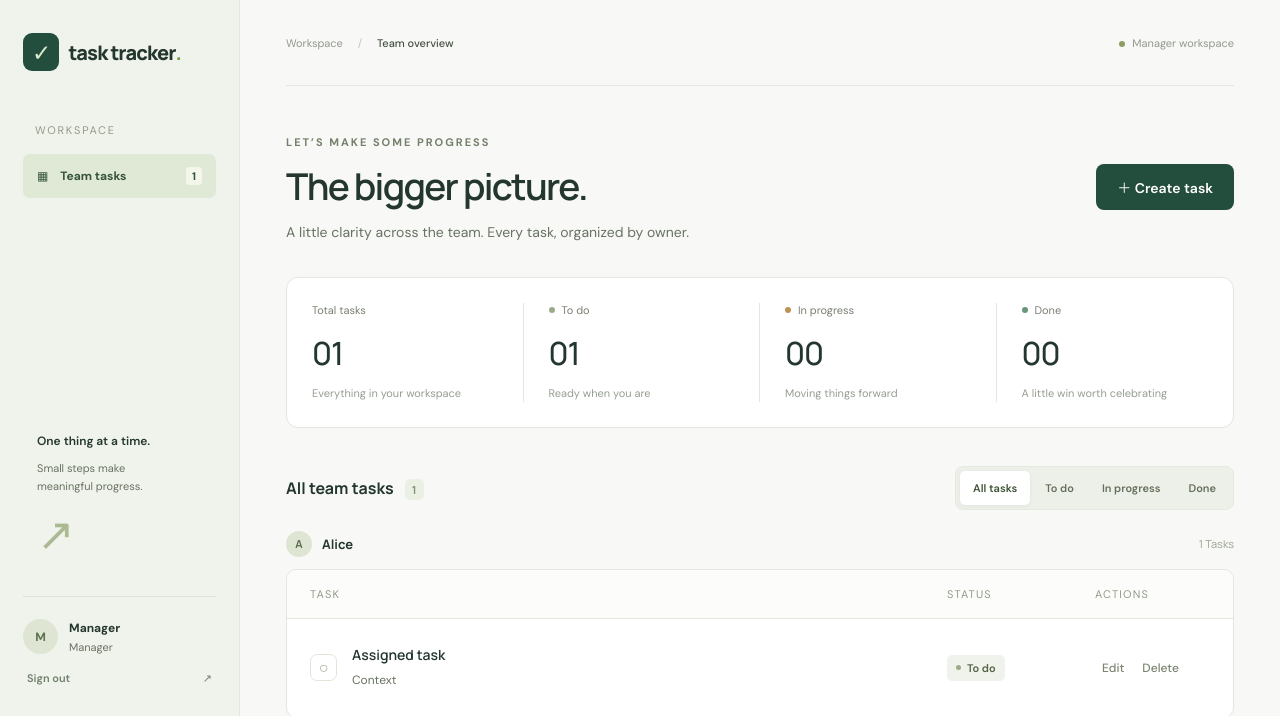
Test: moves a reassigned task into the new owner group without reloading
This screenshot has width=1280, height=716.
Click the button with aria-label "Edit Assigned task" at (1113, 668), box [1095, 650, 1131, 686]
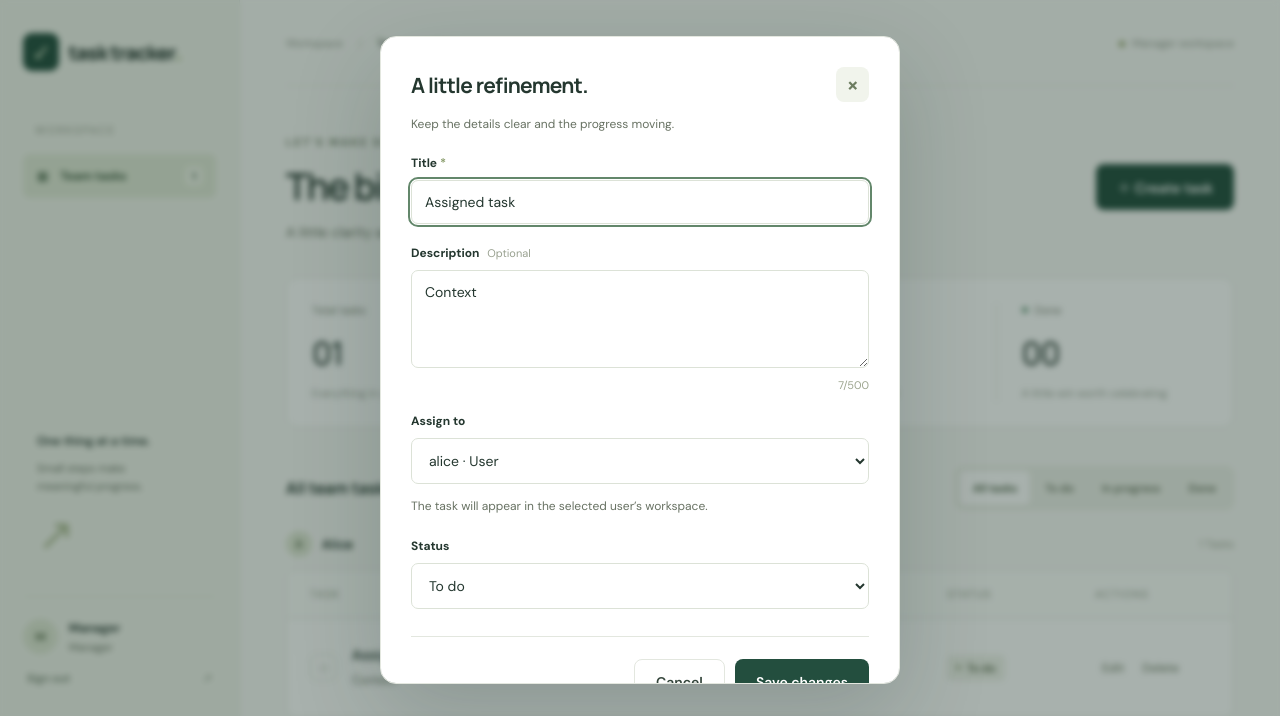
Select "bob · User" in the dropdown labelled "Assign to" at (640, 461), box [411, 438, 869, 484]
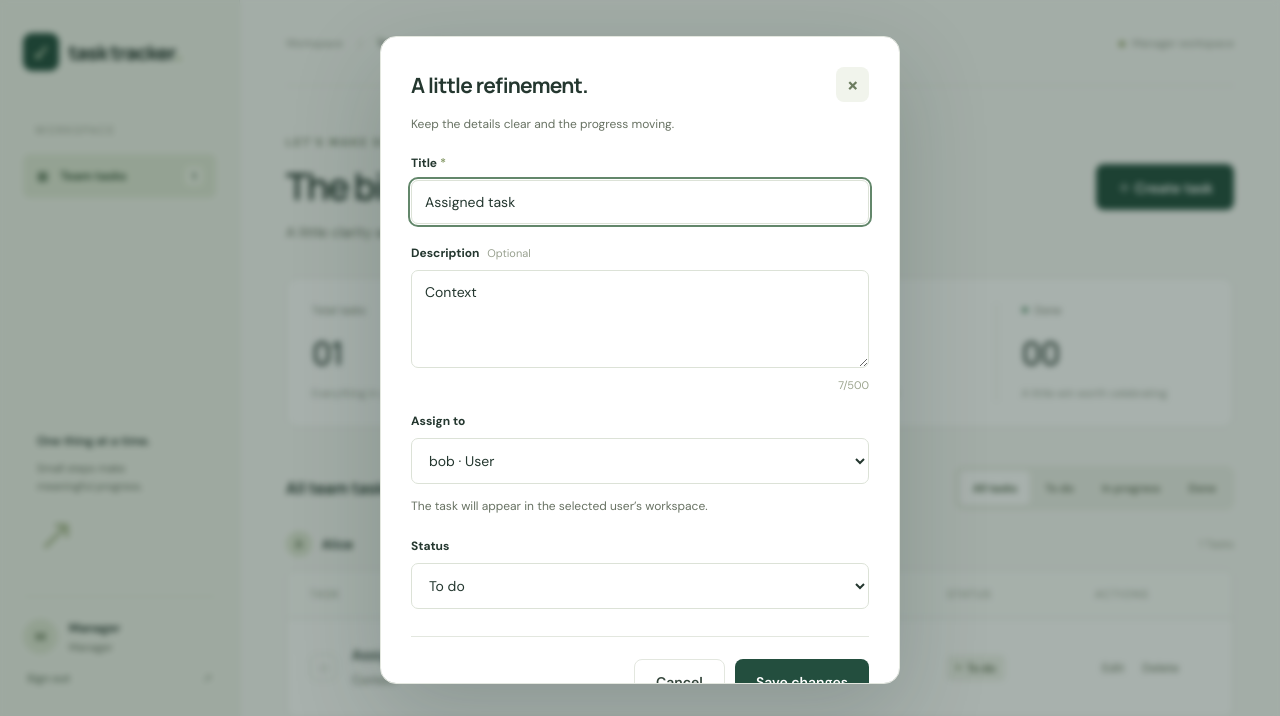
Click the button "Save changes" at (802, 682), box [735, 659, 869, 705]
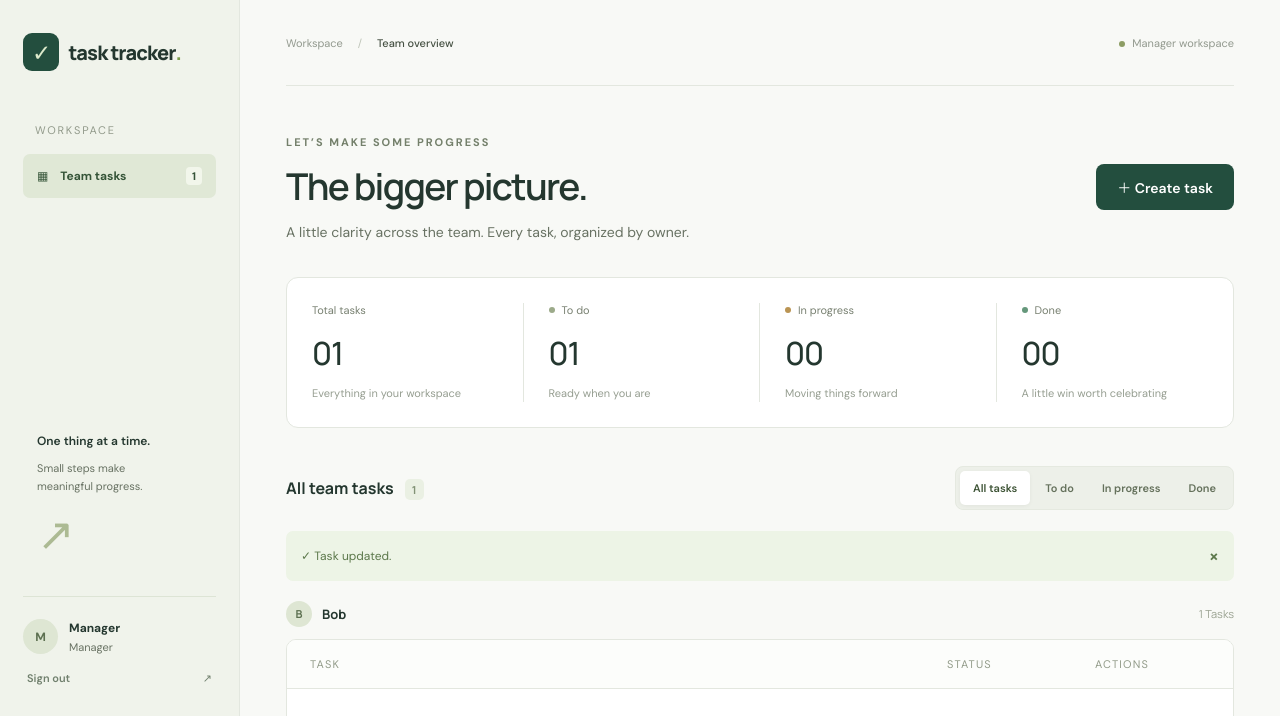
Expected: the message shows "Task updated", [314, 548, 392, 564]
Expected: the heading named "Tasks assigned to bob" is shown, [286, 601, 1234, 627]
